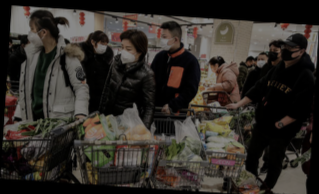with_mask: (120, 42, 140, 65), (27, 25, 46, 47), (281, 42, 301, 62), (159, 32, 176, 51), (267, 46, 282, 60), (94, 40, 107, 55), (256, 56, 268, 69), (209, 64, 218, 73), (247, 61, 254, 69)
